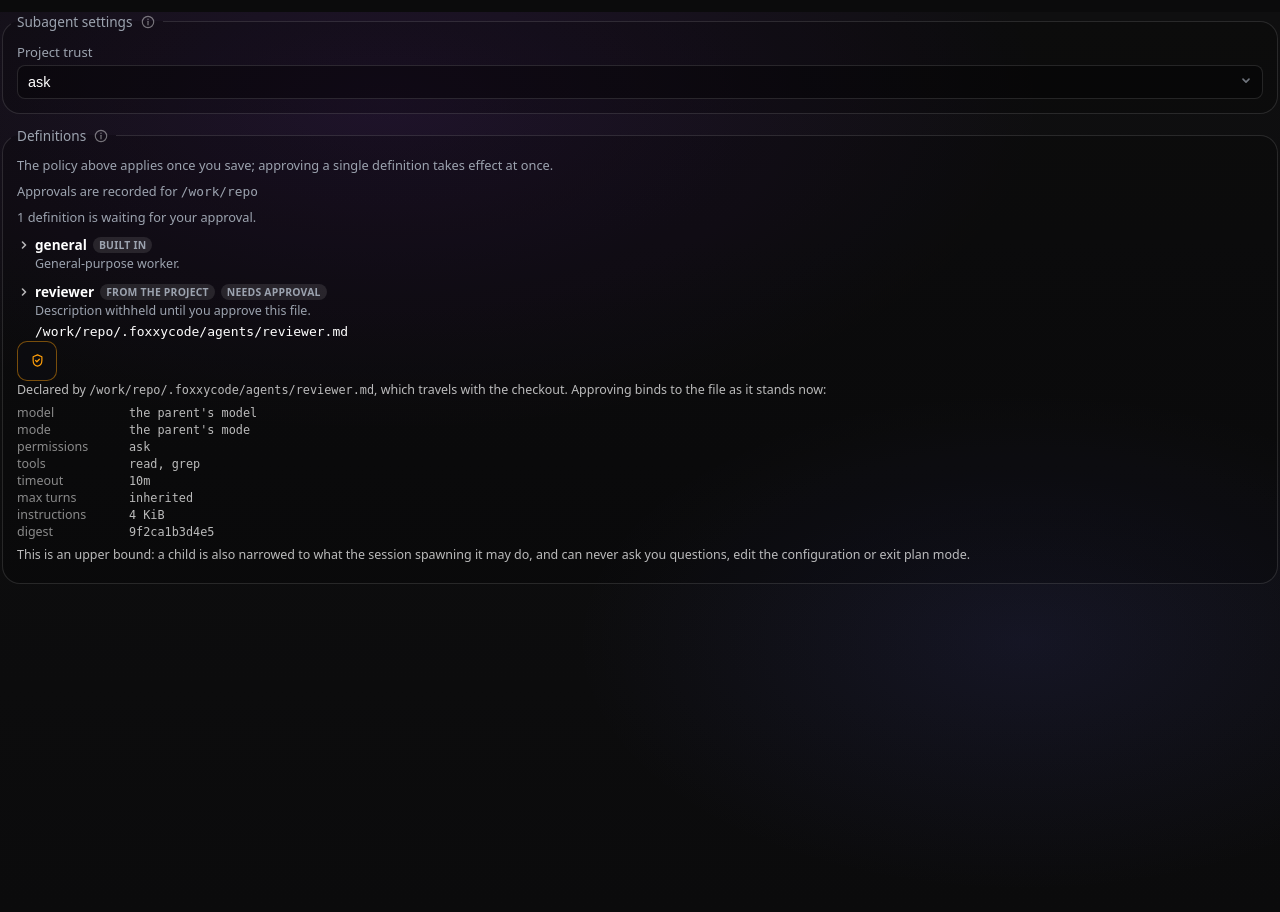
Test: approving posts the workspace and reloads the catalog
The image size is (1280, 912).
Click the button with test id "subagent-trust-reviewer". click: (37, 361)
box: [17,341,57,381]
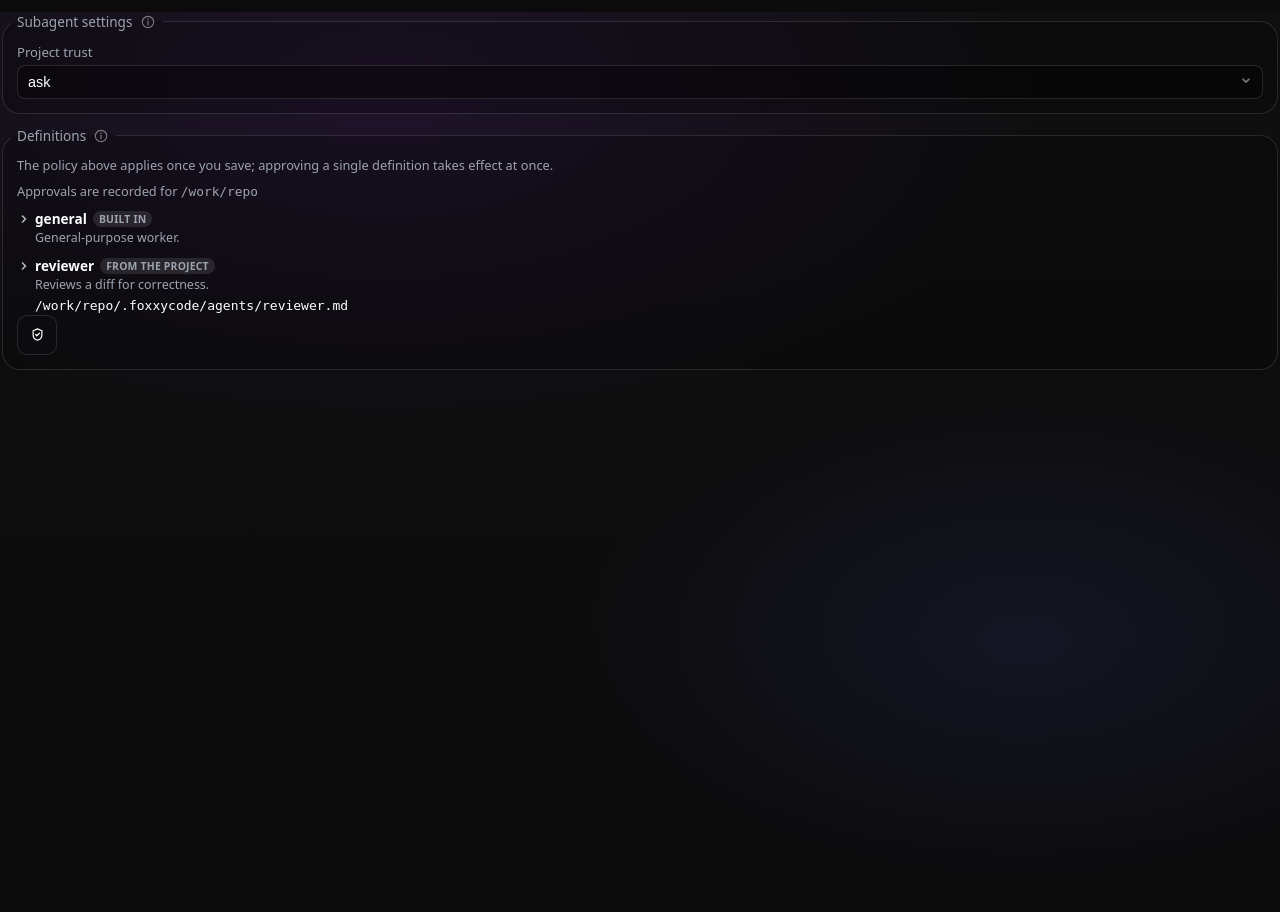
expect the element with test id "subagent-trust-note-reviewer" is gone: met
